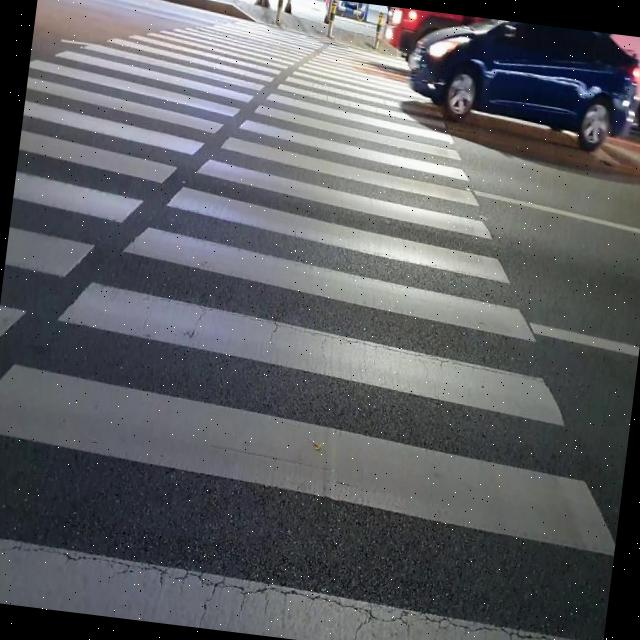crosswalk: (0, 19, 615, 640)
